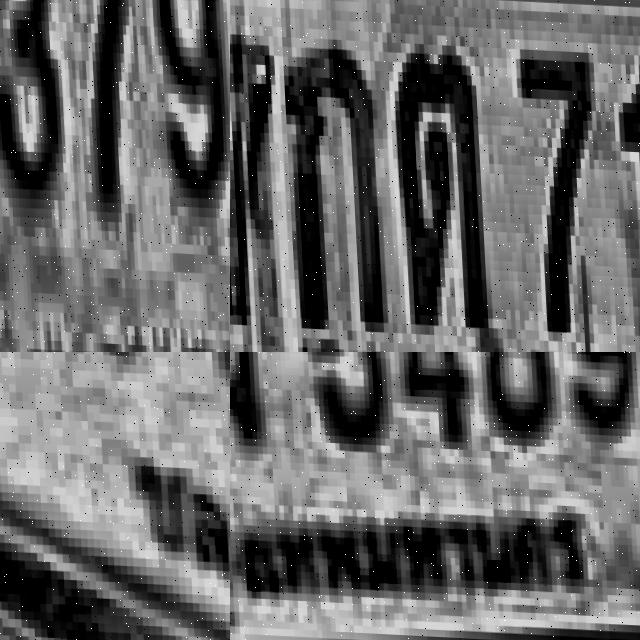license-plate: (230, 0, 640, 352), (230, 352, 640, 640), (0, 0, 230, 352), (0, 352, 230, 640)
